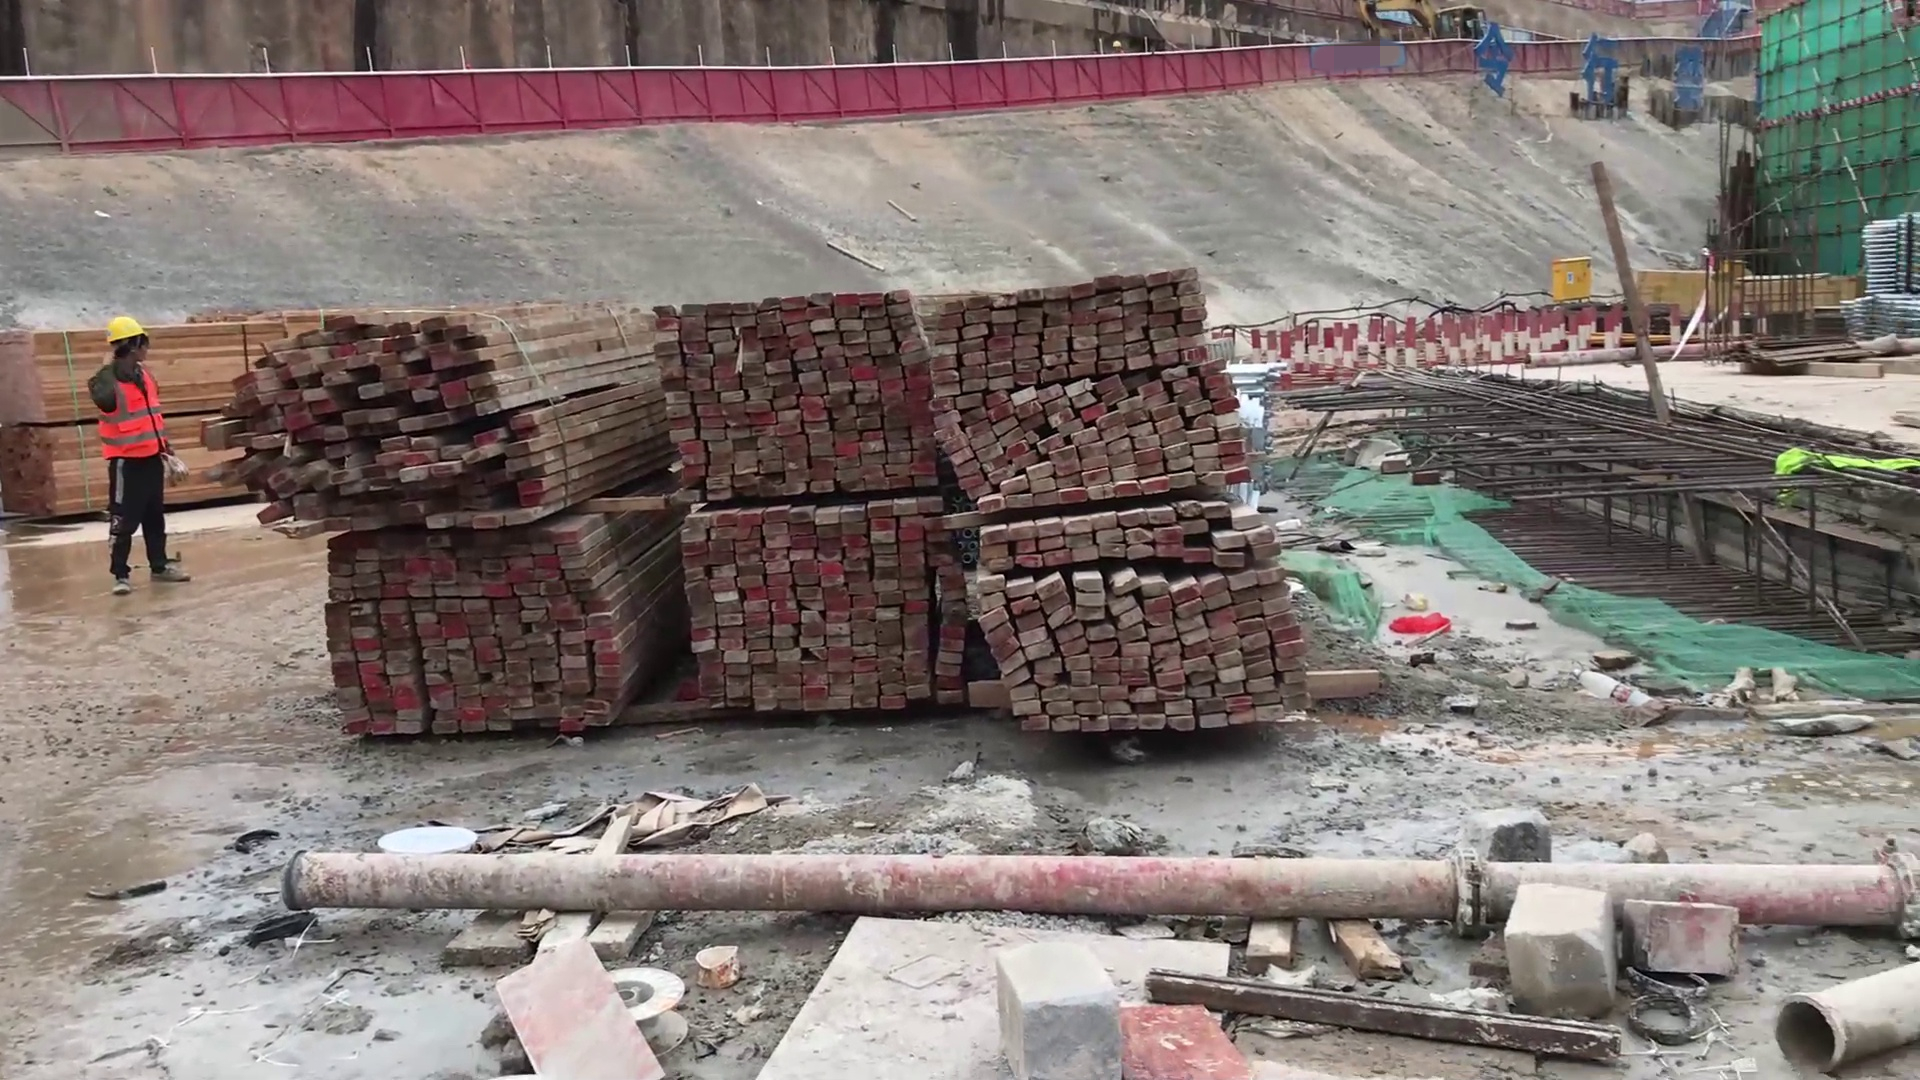ebox: (1553, 254, 1595, 306)
fence: (54, 60, 544, 159)
person: (82, 315, 200, 600)
scaffold: (1852, 212, 1920, 337)
vest: (99, 366, 170, 470)
wood: (921, 227, 1336, 760), (254, 290, 636, 757), (648, 274, 963, 730), (12, 307, 277, 524)
